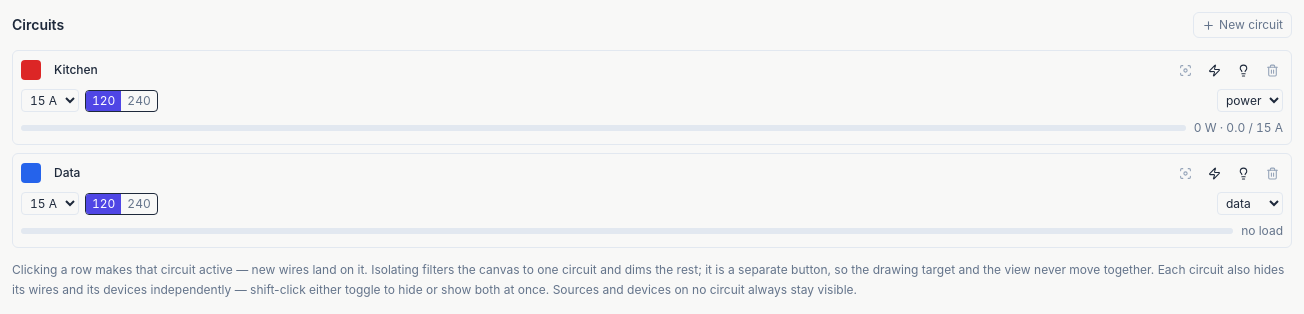
Scenario: CircuitsPanel active circuit vs isolation (specs W1/C5) › isolates from its own button — a separate control that also makes the row active
Step 1. Click the button named "Isolate Kitchen" → (1186, 70), box [1175,60,1196,80]
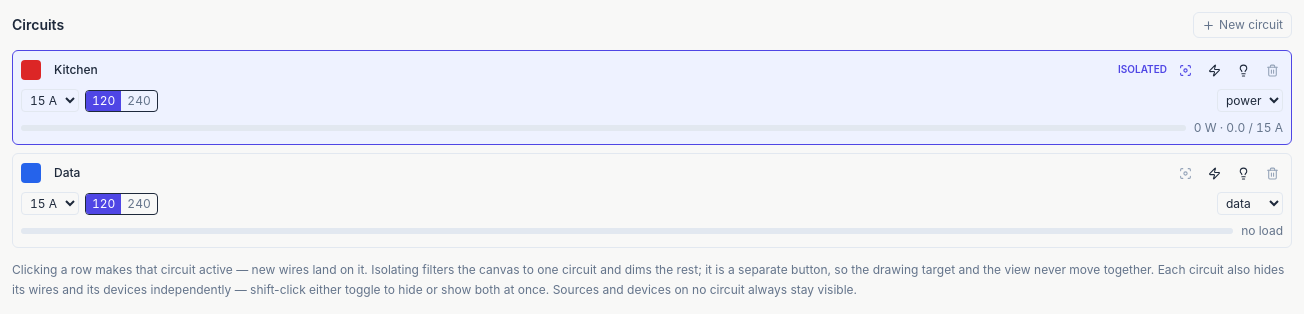
Expected: the text "Isolated" is shown, [1118,63,1167,77]
